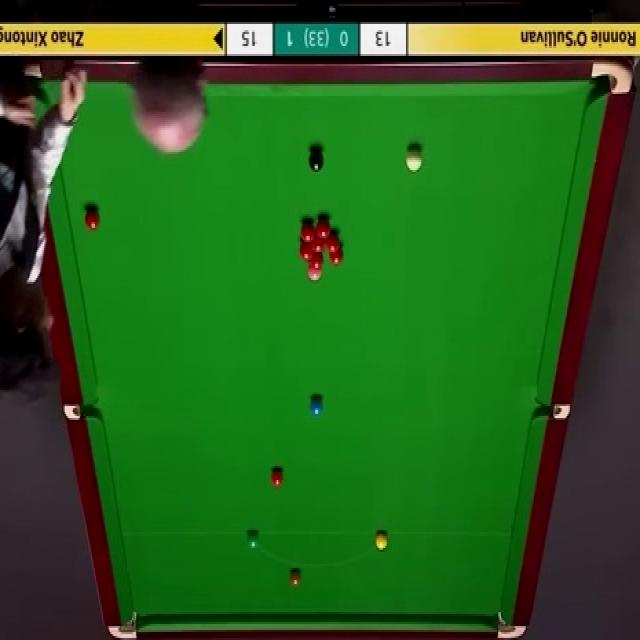black-ball: (308, 148, 324, 173)
blue-ball: (310, 396, 325, 418)
brown-ball: (289, 568, 301, 588)
green-ball: (247, 530, 260, 551)
pink-ball: (307, 270, 323, 284)
red-ball: (84, 206, 100, 232), (315, 214, 332, 238), (328, 246, 346, 267), (297, 241, 314, 262), (308, 252, 324, 273), (270, 467, 285, 488), (325, 232, 340, 253), (300, 220, 314, 242), (310, 235, 325, 251)
white-ball: (406, 146, 423, 172)
yellow-ball: (375, 531, 388, 552)
